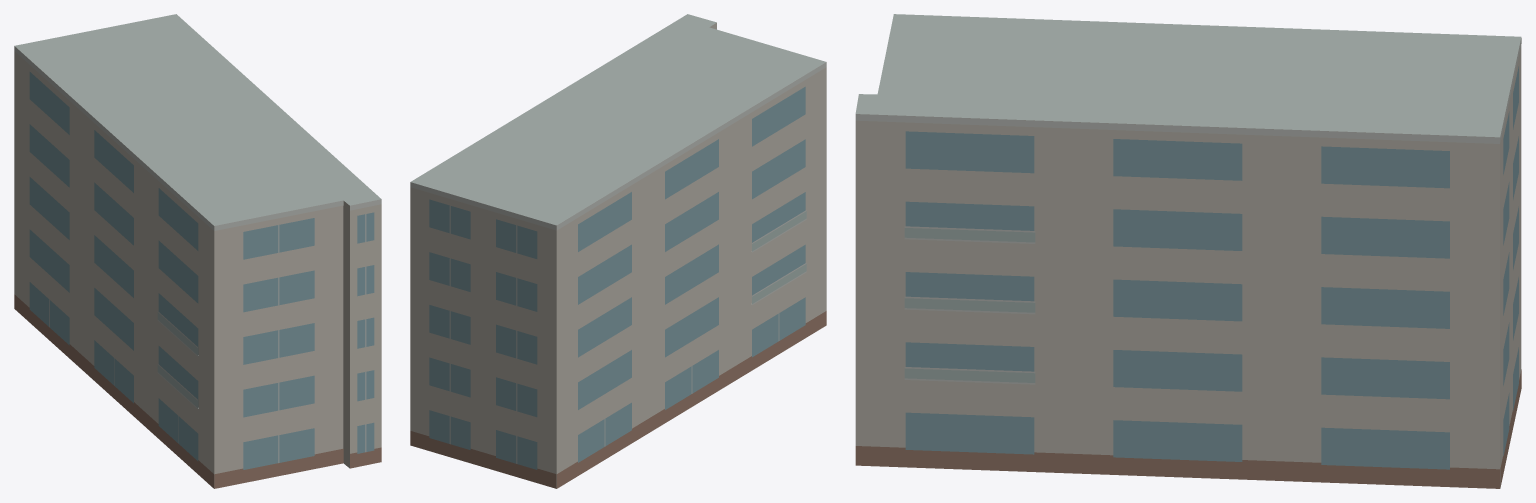
Rendered from survey-upis-32926211.glb.
3 views of the same model, side by side, from view 1: azimuth 30°, elevation 25°; view 2: azimuth 150°, elevation 25°; view 3: azimuth 270°, elevation 25° (orthographic). The views are drawn at different scales.
Visible parts, largest first — view 1: survey-upis-32926211.tmp; view 2: survey-upis-32926211.tmp; view 3: survey-upis-32926211.tmp.
Part boxes in pixels (left/top/right/bottom): survey-upis-32926211.tmp: left=14, top=14, right=381, bottom=488; survey-upis-32926211.tmp: left=410, top=14, right=826, bottom=488; survey-upis-32926211.tmp: left=855, top=14, right=1521, bottom=488.
Bounding box in the file's own units: 9.59 × 12.73 × 21.87.
